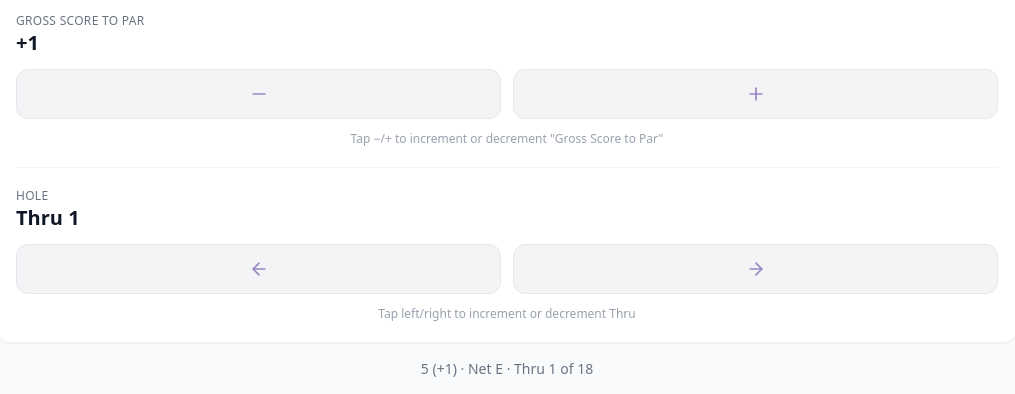
Test: QuickScore › can decrement hole from 1 back to 0 (Not Started)
Click the 3rd button.
click(258, 269)  # box 16,244 -> 501,294
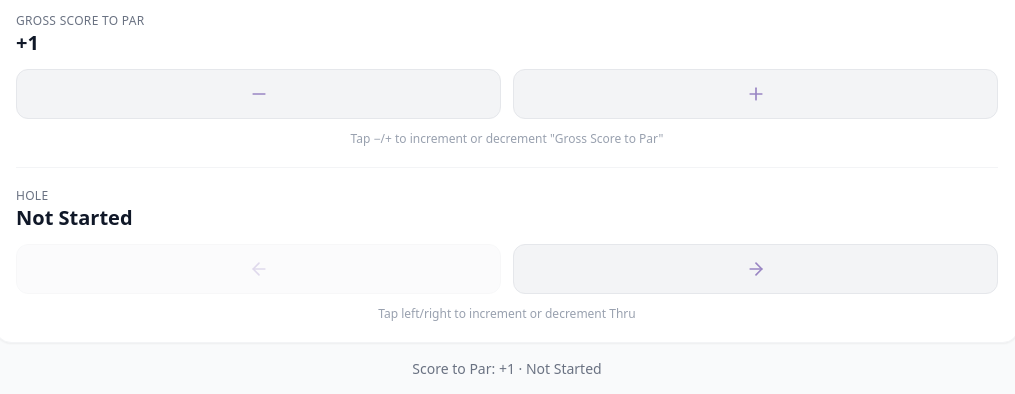
Expected: the text "Not Started" is shown, 16,204 -> 132,231
